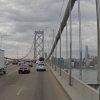Bridge: (43, 35, 95, 93)
